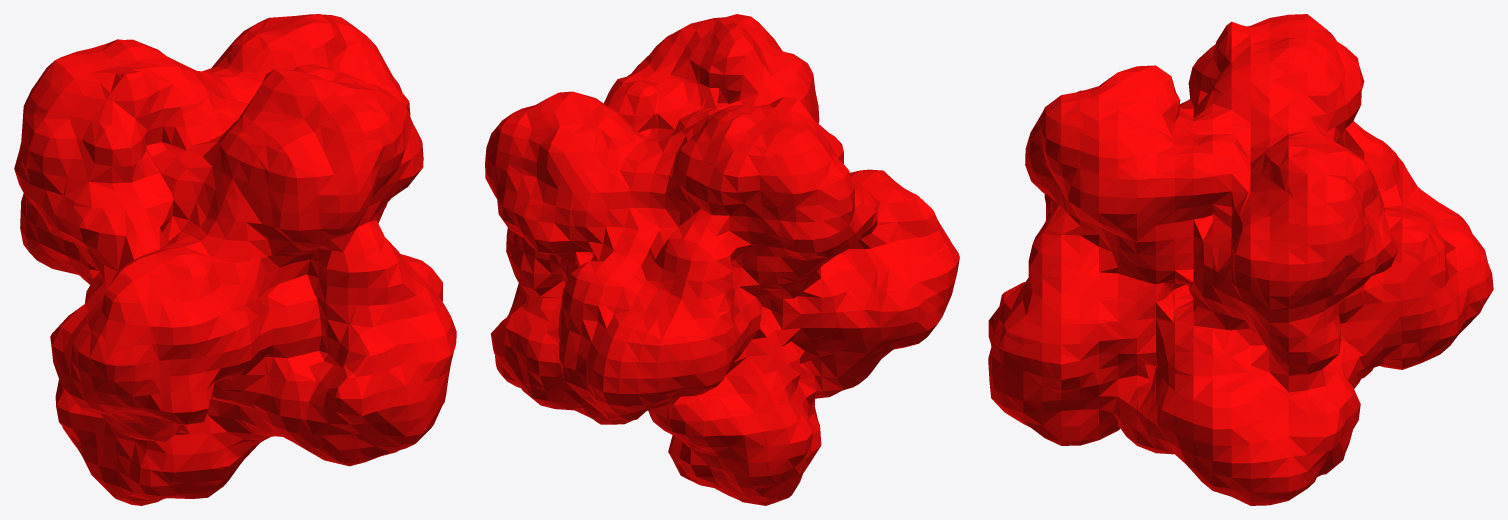
The model's file is pdxJ_coarse.dae.
The picture shows the model from 3 angles, left to right: view 1: azimuth 30°, elevation 25°; view 2: azimuth 150°, elevation 25°; view 3: azimuth 270°, elevation 25°; orthographic projection. The views are drawn at different scales.
Parts seen in each view (by area): view 1: pdxJ; view 2: pdxJ; view 3: pdxJ.
Part boxes in pixels (x1=…): pdxJ: x1=14, y1=14, x2=456, y2=505; pdxJ: x1=485, y1=14, x2=959, y2=505; pdxJ: x1=988, y1=14, x2=1493, y2=505.
Bounding box in the file's own units: 101 × 104 × 110.
